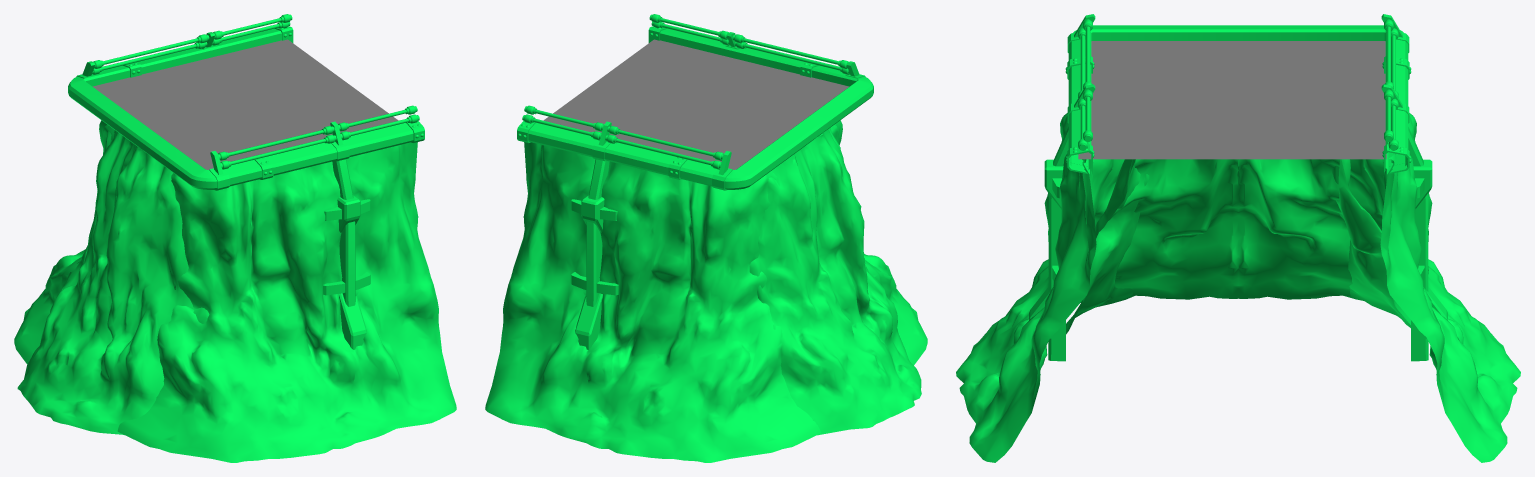
The model's file is Track_07_1_End.fbx.
3 renders of one model, left to right at view 1: azimuth 30°, elevation 25°; view 2: azimuth 150°, elevation 25°; view 3: azimuth 270°, elevation 25°, orthographic. The views are drawn at different scales.
Visible parts, largest first — view 1: Side_Rock_010, Road_010; view 2: Side_Rock_010, Road_010; view 3: Side_Rock_010, Road_010.
Boxes of the visible parts, box(x1,y1,x2,y2) form: Side_Rock_010: box(14, 14, 456, 462); Road_010: box(92, 39, 398, 169); Side_Rock_010: box(485, 14, 927, 462); Road_010: box(543, 39, 849, 169); Side_Rock_010: box(956, 14, 1520, 462); Road_010: box(1078, 41, 1386, 159).
Size of what is drawn, in the model's own units: 3206 by 4030 by 2600.
